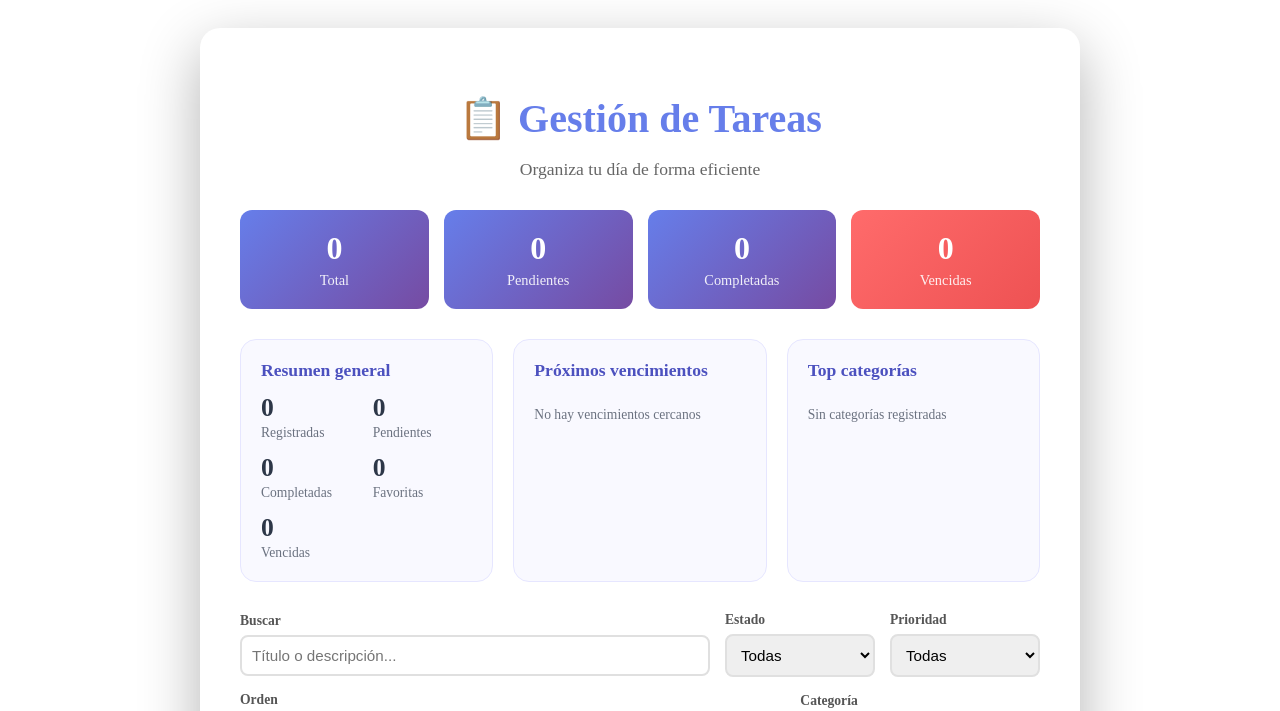
App - Gestión de Tareas › limpia la búsqueda y restablece los filtros
In the search field labelled "Buscar": (475, 656) [240,635,710,676], type "proyecto"
(page scrolled)
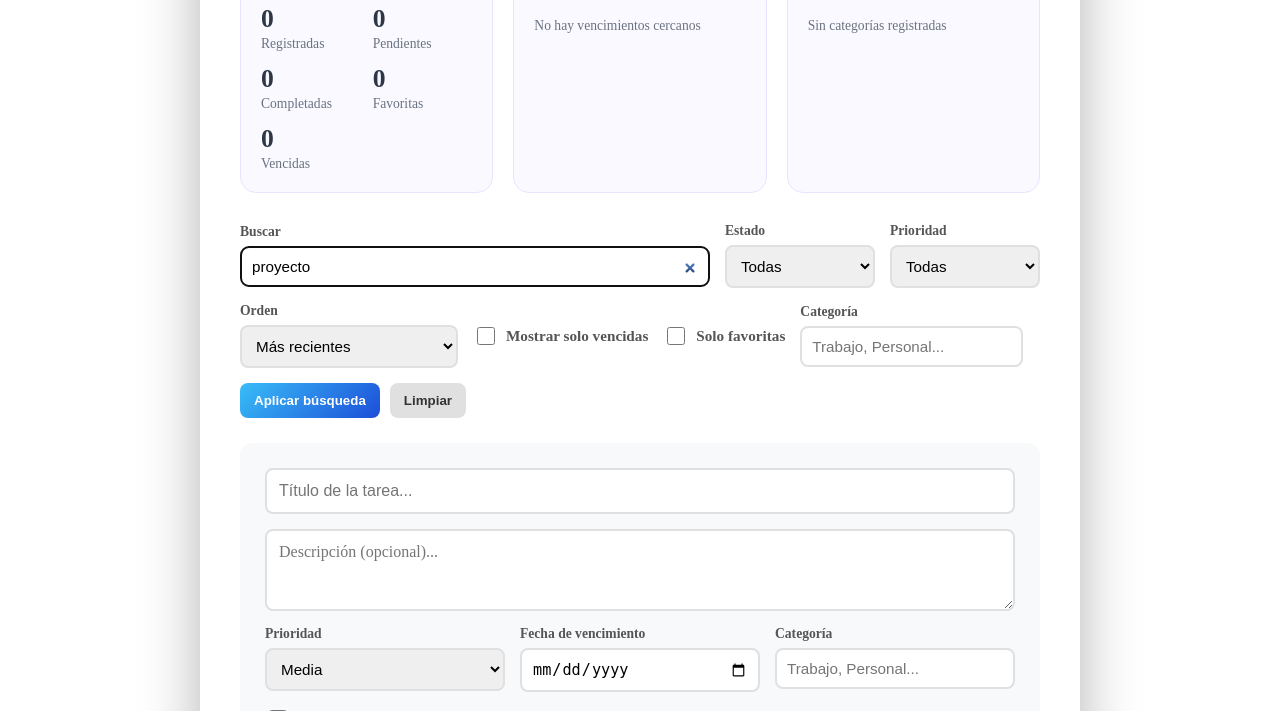
Click the button "Aplicar búsqueda": (310, 401) [240,383,380,418]
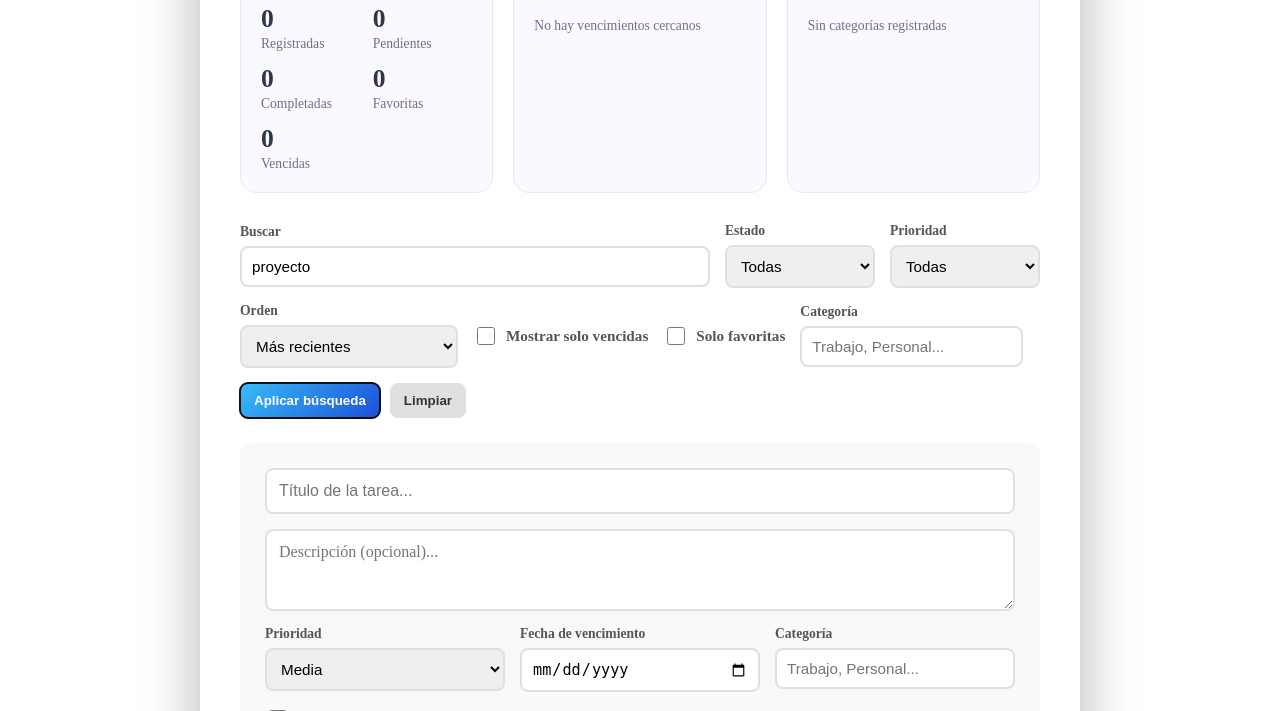
Click the button "Limpiar": (428, 401) [390,383,466,418]
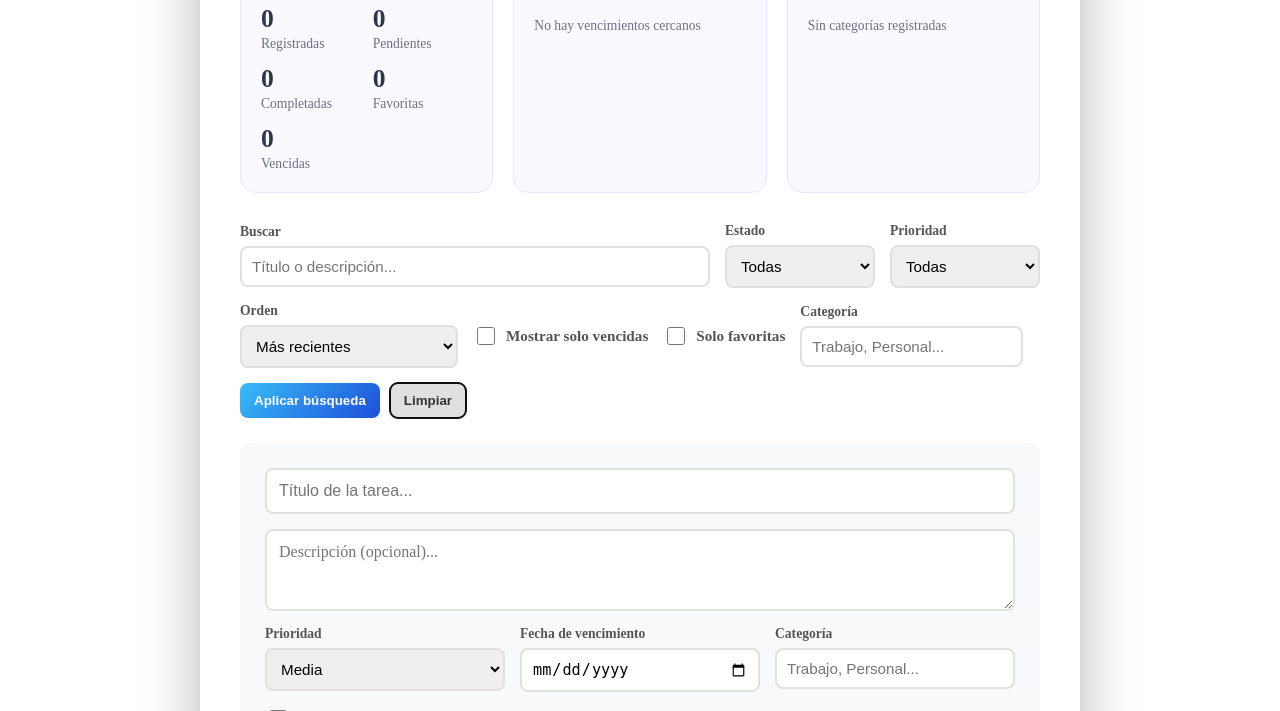
Check: the search field labelled "Buscar" is empty, box [240,246,710,287]
